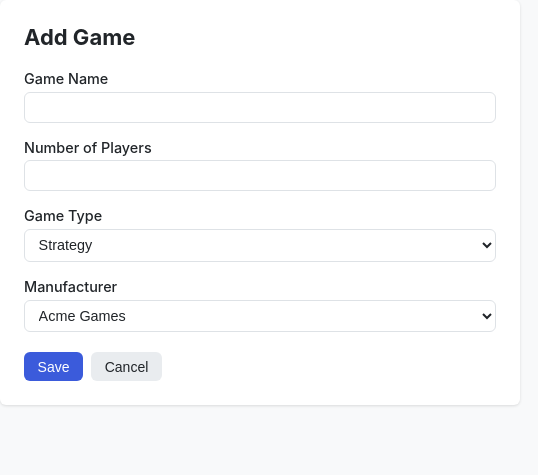
Scenario: GameForm › shows duplicate name error on API 409
Type "Catan" into the field labelled "Game Name" at (260, 107), box [24, 92, 496, 123]
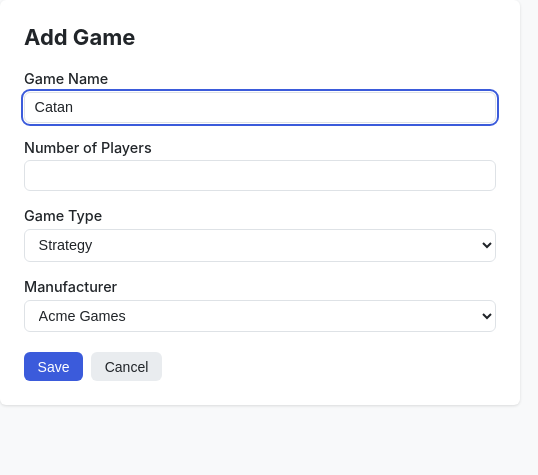
Type "4" into the number field labelled "Number of Players" at (260, 176), box [24, 160, 496, 191]
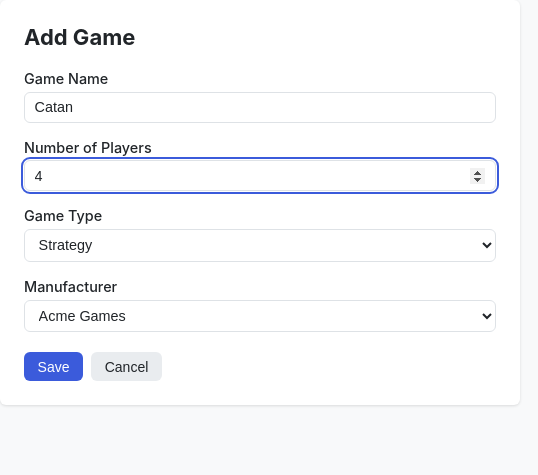
Click the button "Save" at (54, 367), box [24, 352, 83, 381]
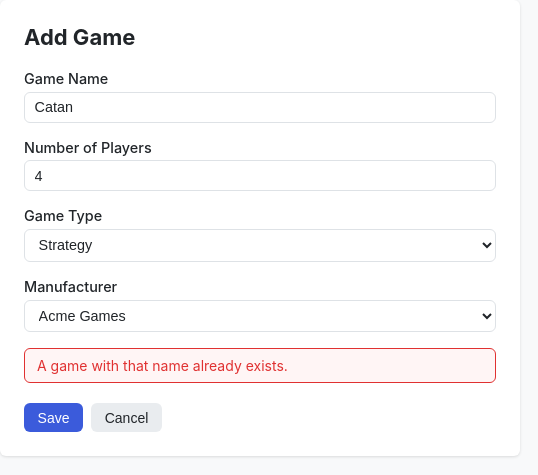
Expected: the text "A game with that name already exists." is shown, [24, 348, 496, 383]
